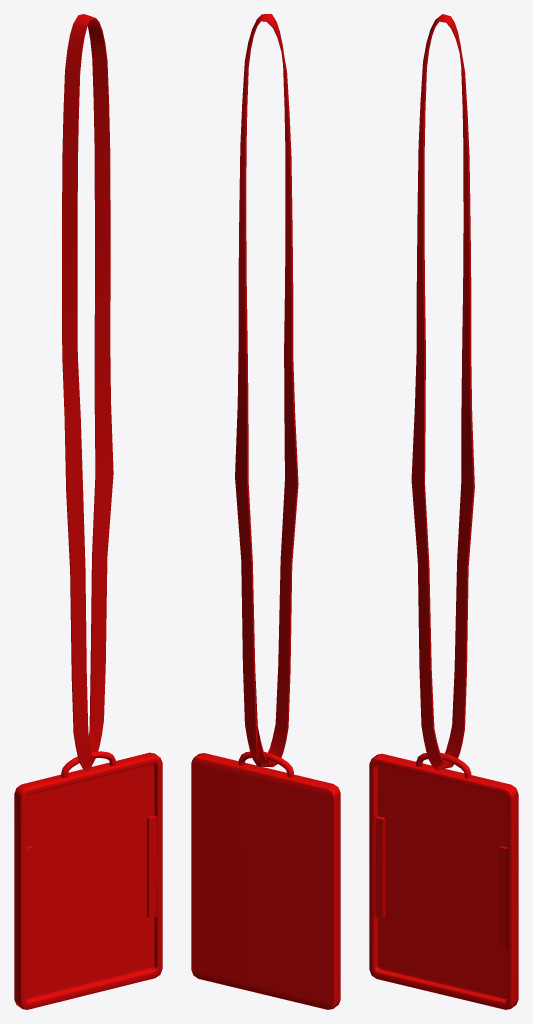
The model's file is ID_Card.fbx.
The picture shows the model from 3 angles, left to right: view 1: azimuth 30°, elevation 25°; view 2: azimuth 150°, elevation 25°; view 3: azimuth 330°, elevation 25°; orthographic projection.
Parts seen in each view (by area): view 1: IDCard, IDCardRibbon, IDCardRing; view 2: IDCard, IDCardRibbon, IDCardRing; view 3: IDCard, IDCardRibbon, IDCardRing.
Part boxes in pixels (x1,y1,x2,y2): IDCard: (14, 752, 162, 1009); IDCardRibbon: (62, 14, 113, 770); IDCardRing: (61, 751, 116, 777); IDCard: (191, 753, 340, 1009); IDCardRibbon: (235, 14, 298, 767); IDCardRing: (238, 751, 293, 777); IDCard: (369, 753, 518, 1009); IDCardRibbon: (411, 14, 474, 769); IDCardRing: (416, 752, 471, 778).
Size of the model in its own units: 3.37 by 21.96 by 0.5995.
